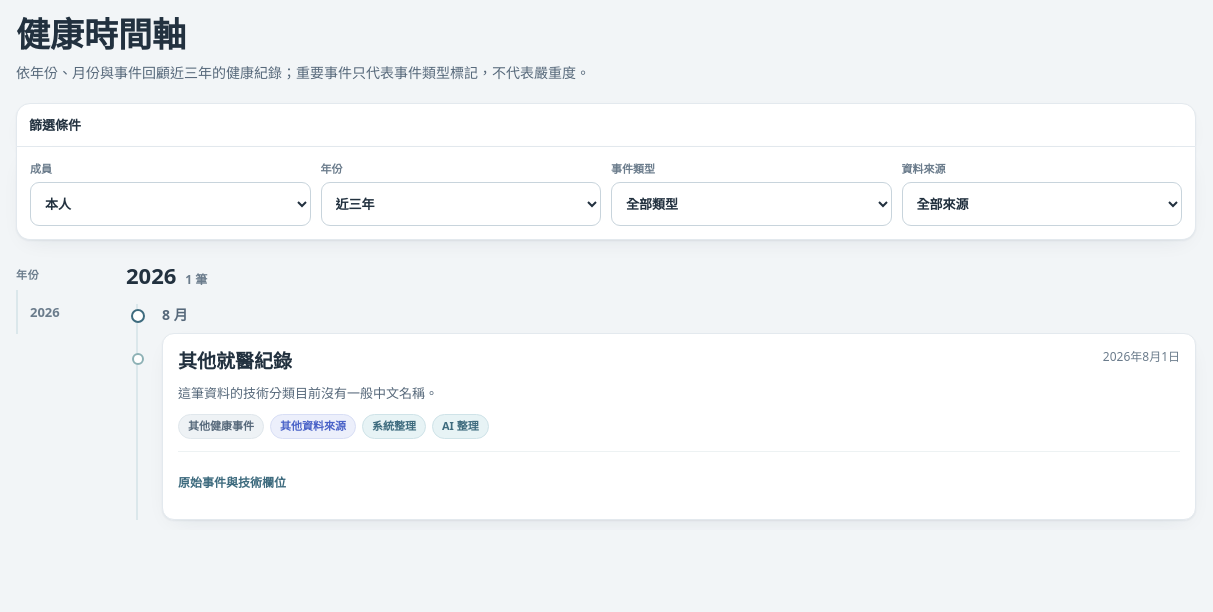
Test: HealthTimelinePage member and mobile year behavior › replaces unknown event, source, and category codes with generic Chinese labels
The image size is (1213, 612).
Check: the element "其他就醫紀錄" is shown, box [162, 333, 1196, 520]
Check: the text "其他健康事件" is shown, box [178, 414, 264, 439]
Click the heading "原始事件與技術欄位" at (232, 482), box [178, 474, 286, 491]
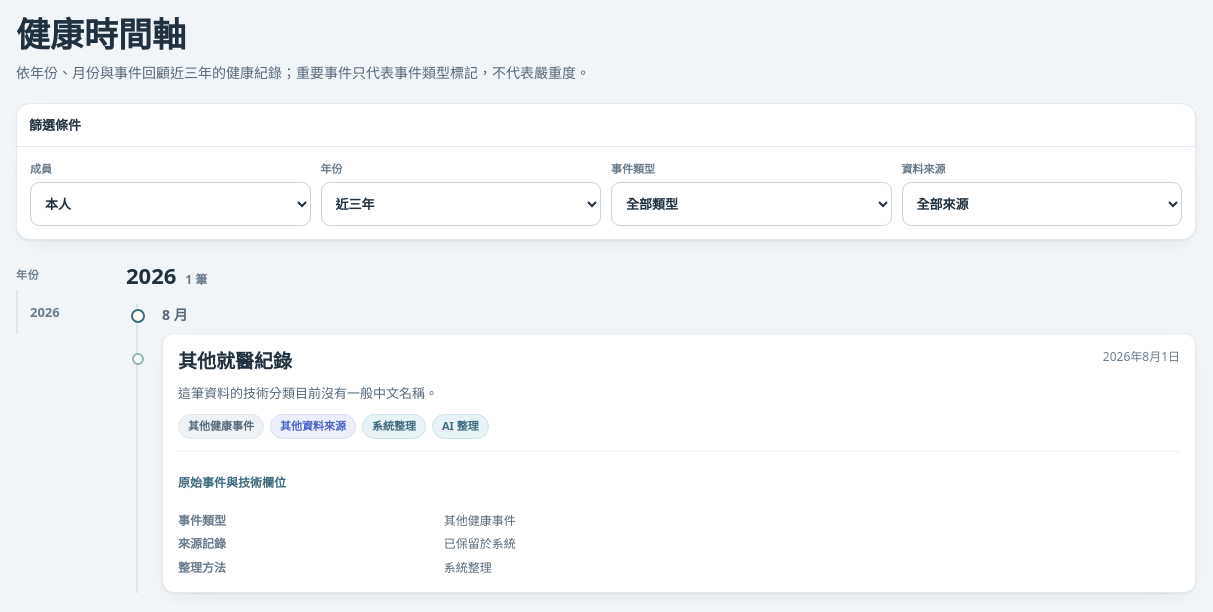
Check: the text "已保留於系統" is shown, box [444, 536, 516, 552]
